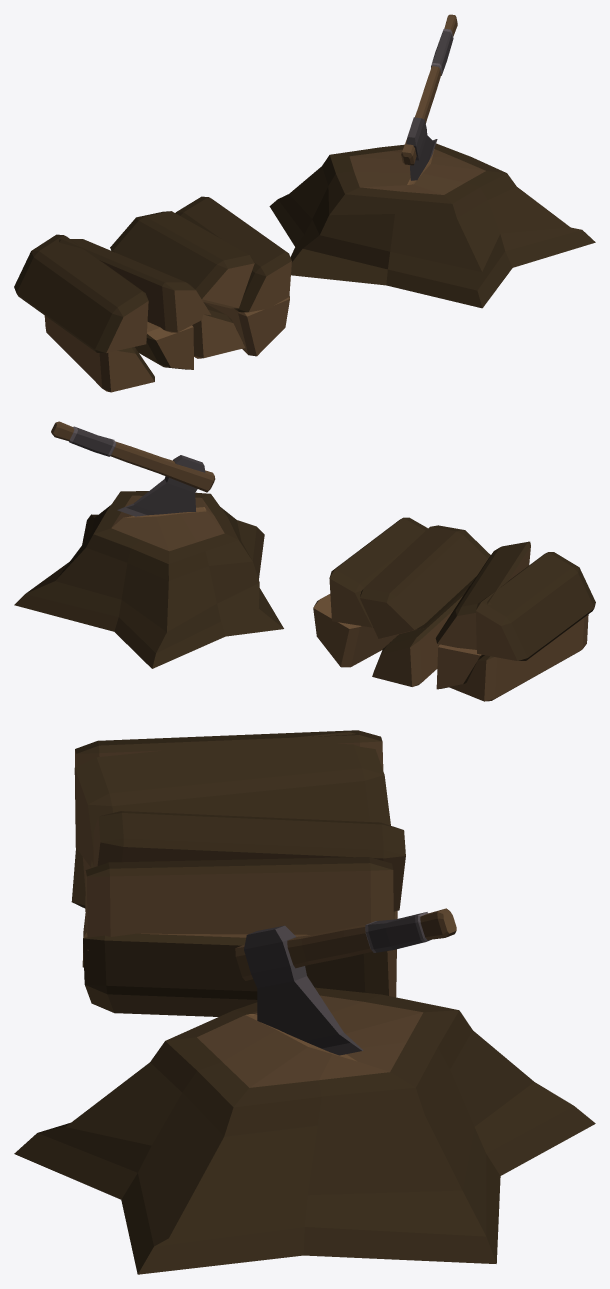
3 views of the same model, one above another, from view 1: azimuth 30°, elevation 25°; view 2: azimuth 150°, elevation 25°; view 3: azimuth 270°, elevation 25° (orthographic). The views are drawn at different scales.
Visible parts, largest first — view 1: logs, stump-col, axe; view 2: logs, stump-col, axe; view 3: stump-col, logs, axe.
Part boxes in pixels (x1,y1,x2,y2): logs: (14, 196, 291, 392); stump-col: (269, 143, 595, 308); axe: (401, 14, 457, 180); logs: (313, 517, 595, 701); stump-col: (14, 491, 283, 668); axe: (51, 421, 215, 516); stump-col: (14, 987, 595, 1274); logs: (71, 730, 405, 1016); axe: (235, 908, 456, 1055).
Size of what is drawn, in the model's own units: 7.66 by 2.85 by 4.22.
